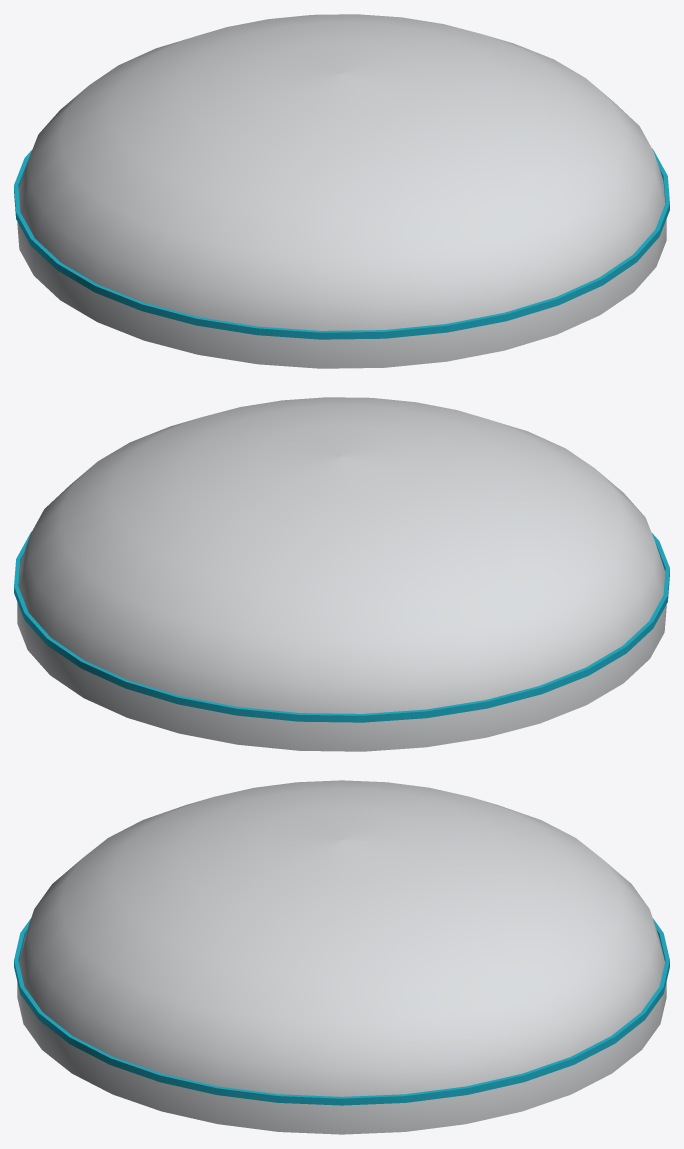
Rendered from c1_feeder.obj.
3 renders of one model, top to bottom at view 1: azimuth 30°, elevation 25°; view 2: azimuth 150°, elevation 25°; view 3: azimuth 270°, elevation 25°, orthographic.
Parts seen in each view (by area): view 1: c1_feeder; view 2: c1_feeder; view 3: c1_feeder.
Boxes of the visible parts, x1=… form: c1_feeder: x1=14, y1=14, x2=669, y2=368; c1_feeder: x1=14, y1=397, x2=669, y2=751; c1_feeder: x1=14, y1=780, x2=669, y2=1134.
Size of the model in its own units: 1.21 by 0.401 by 1.21.
